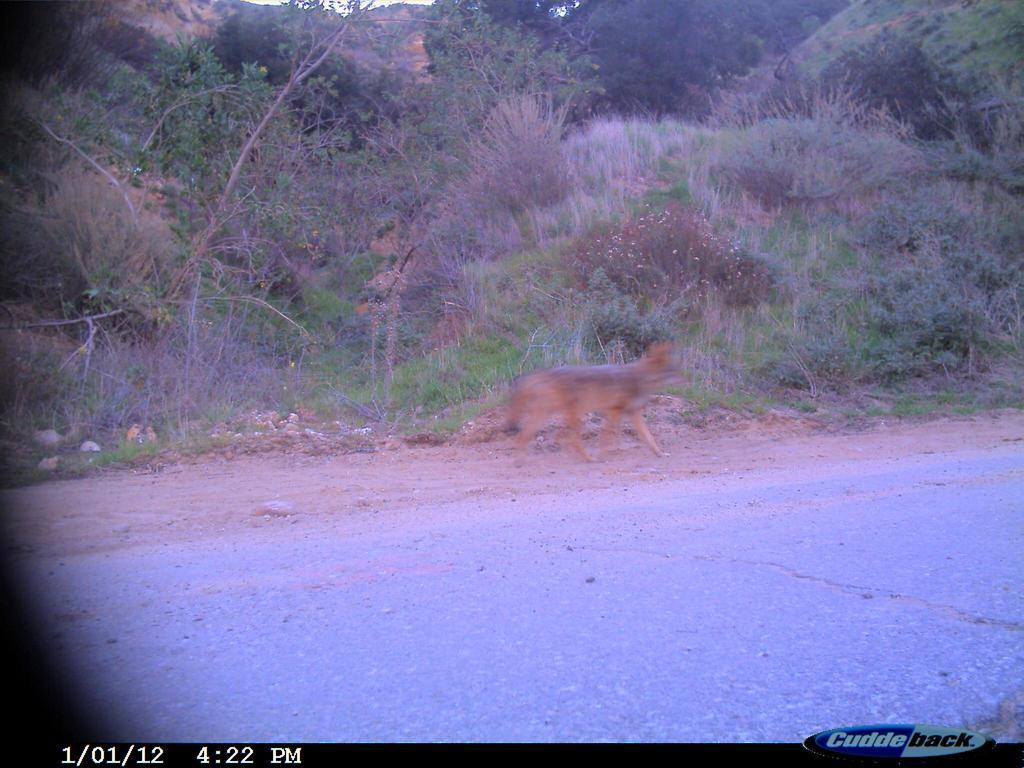coyote: (460, 331, 745, 493)
